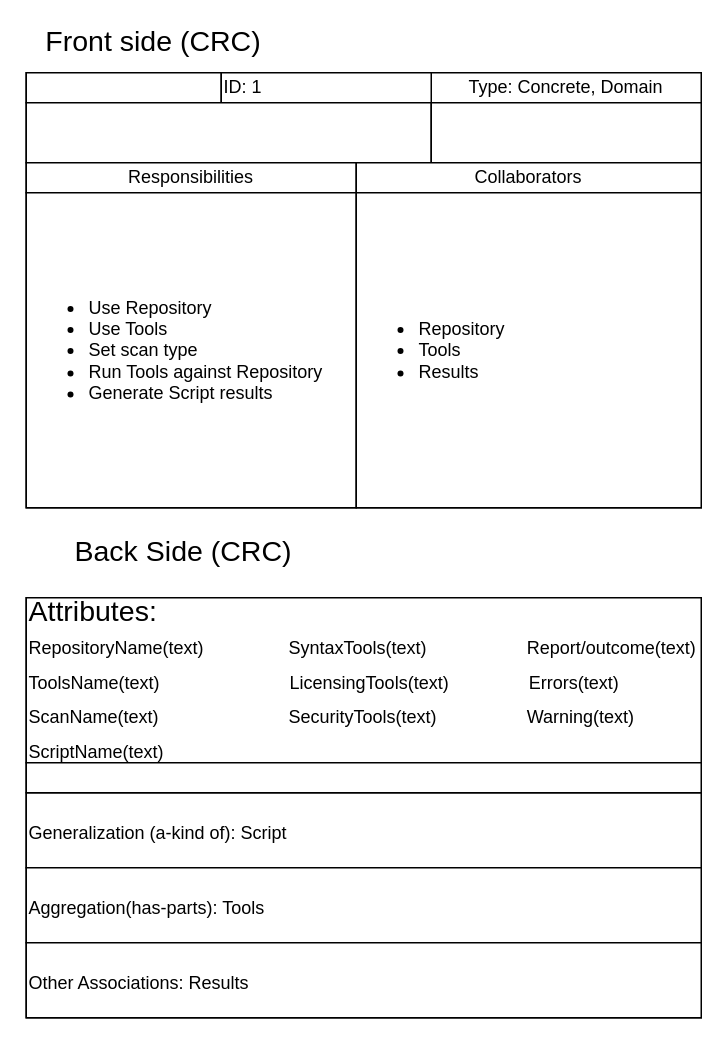
This 728x1044 diagram has some shape labels left out. The shapes that lost their labels are listed below. From the top down, each one's centre as x and y in pixels, then its label:
At pixel 123 87: "Class Name: Script".
At pixel 228 132: "Description: A script that runs in order to conduct the Static Code Analysis.".
At pixel 565 132: "Associated Use Cases: 1".
At pixel 363 777: "Relationships:".
